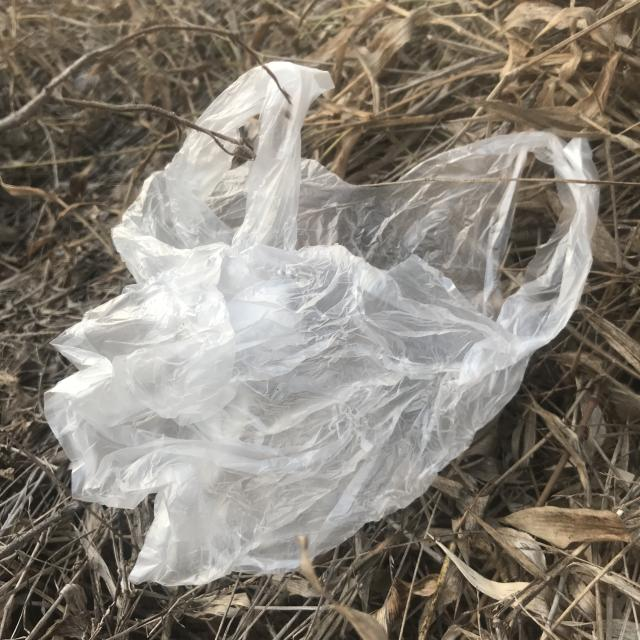Single-layer Plastic: (45, 62, 599, 585)
